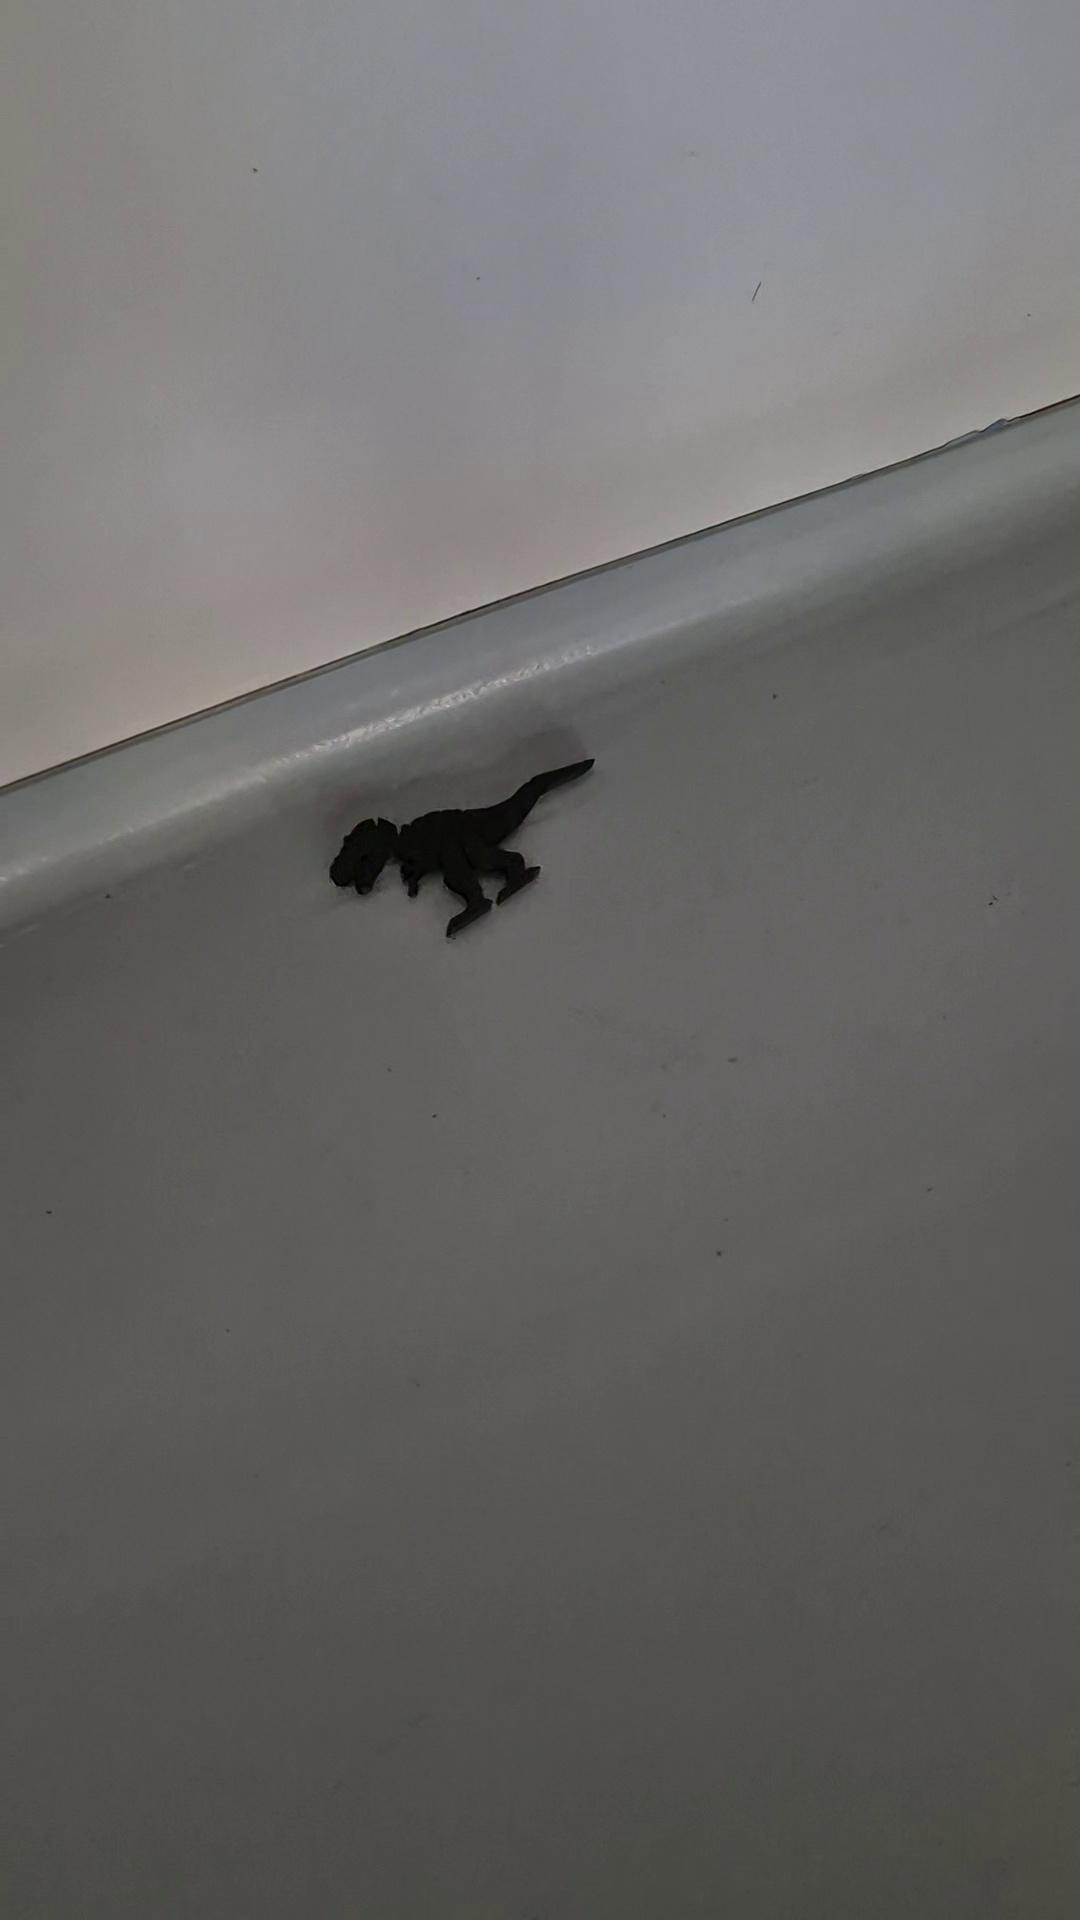dinosaur: (327, 757, 597, 939)
